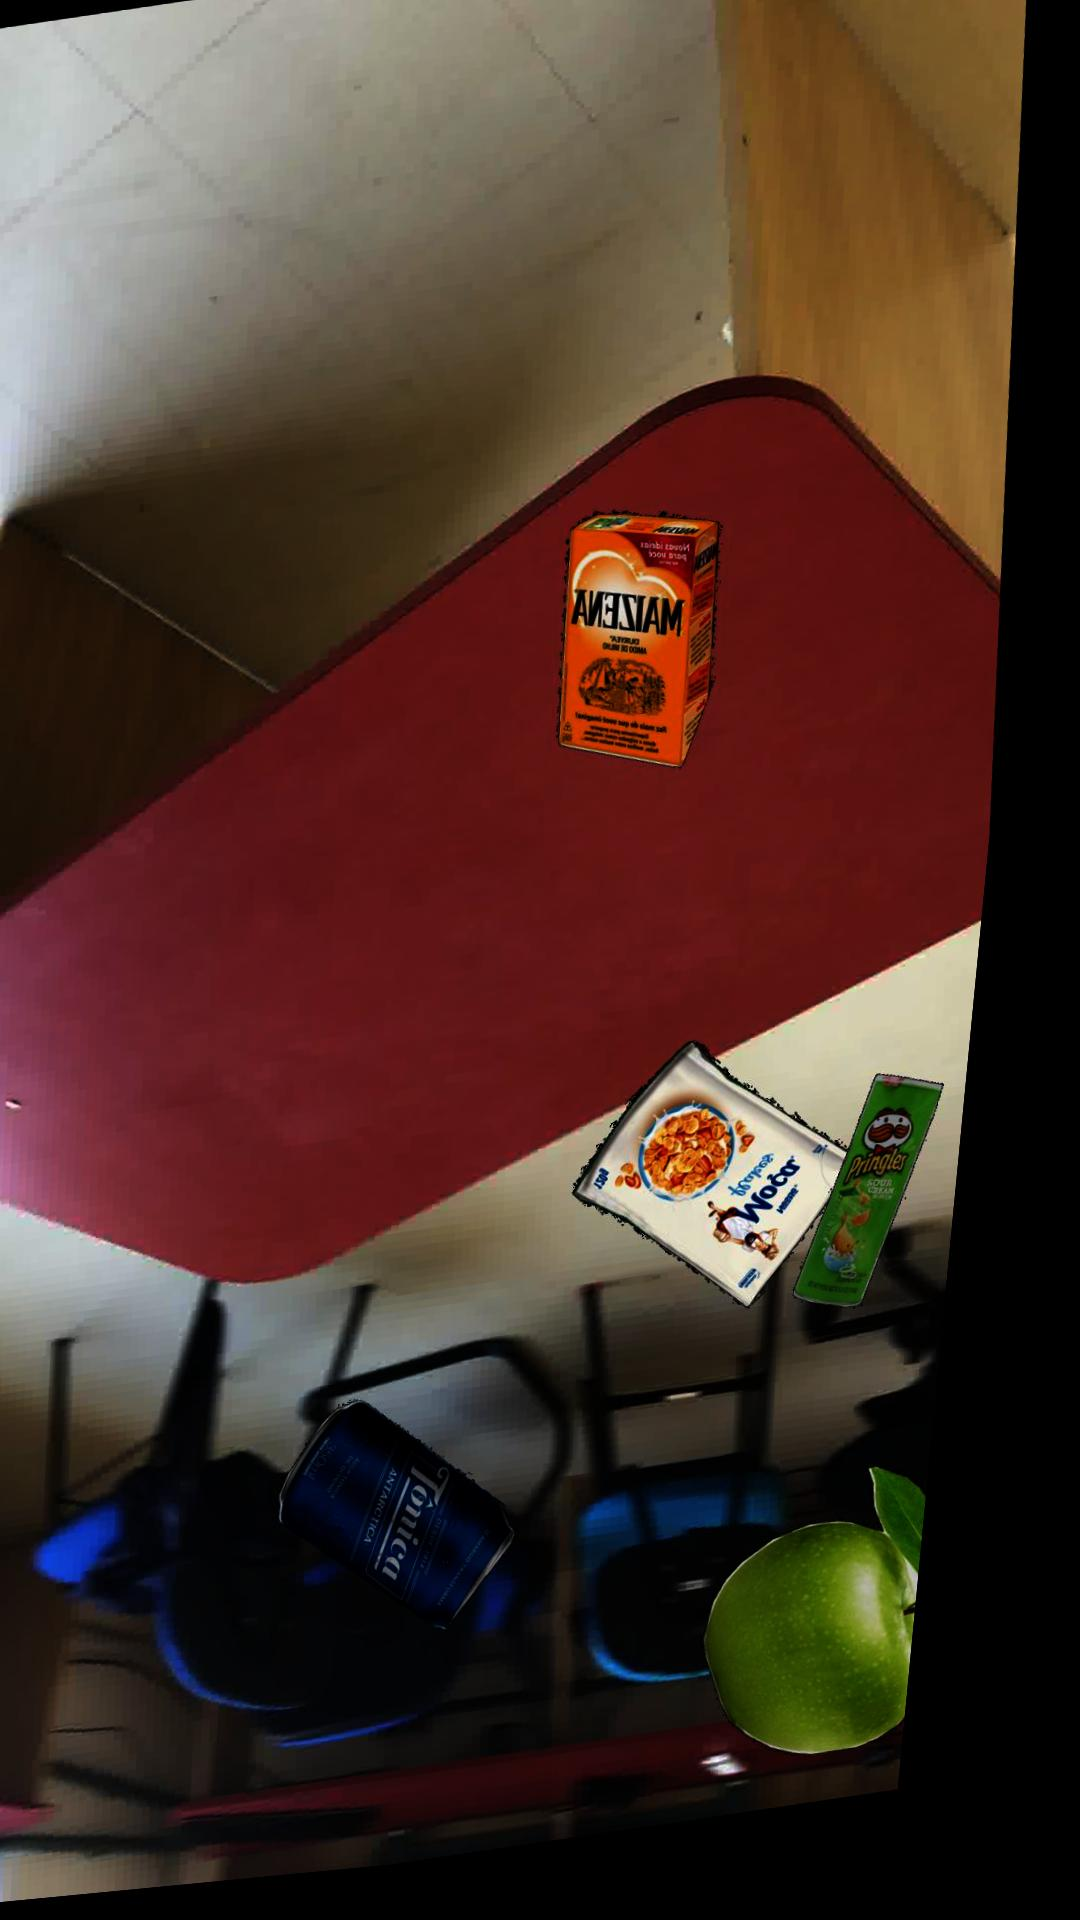corn flakes: (597, 1058, 873, 1327)
green apple: (737, 1487, 959, 1775)
pringles: (822, 1095, 968, 1328)
tonic: (310, 1410, 550, 1643)
